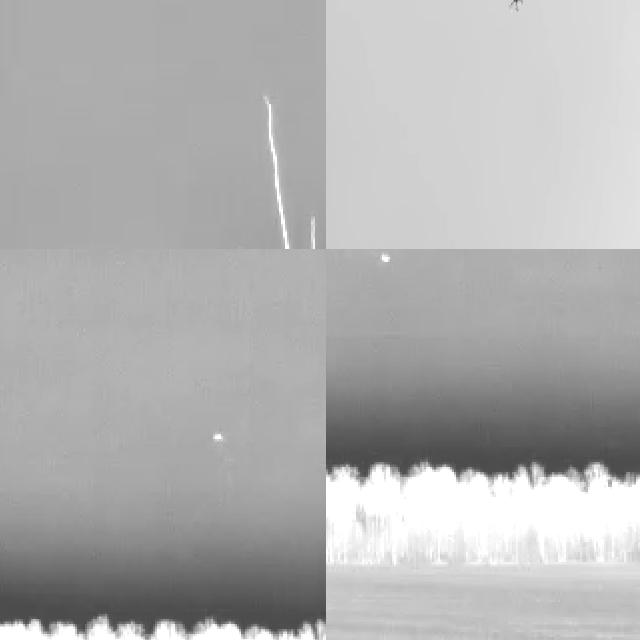1: (198, 422, 230, 454), (370, 250, 394, 274)
drone: (502, 0, 525, 15)
